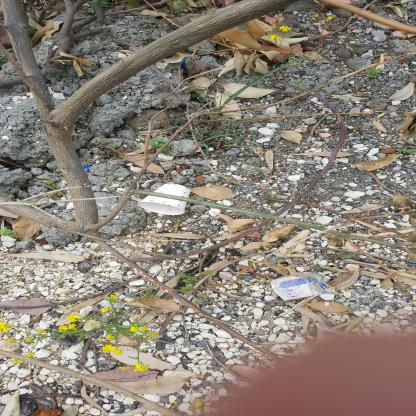karton: (183, 226, 217, 280), (273, 85, 302, 146)
